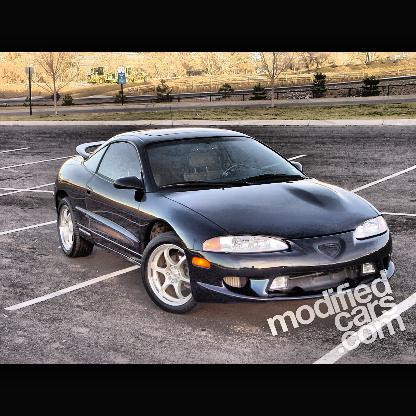Eagle Talon Hatchback 1998: (55, 128, 396, 314)
